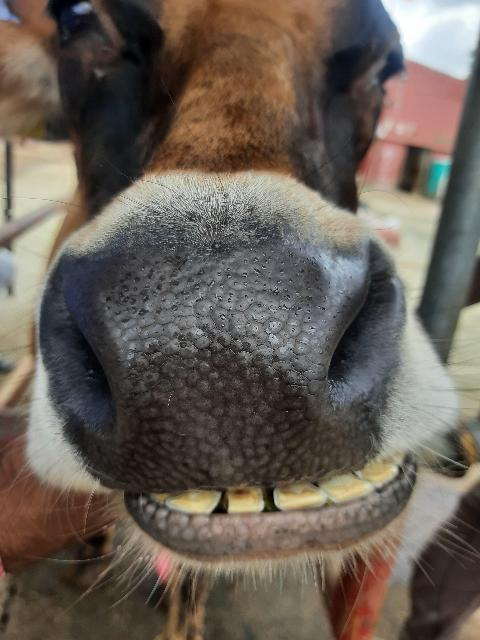Muzzle: (74, 252, 364, 496)
